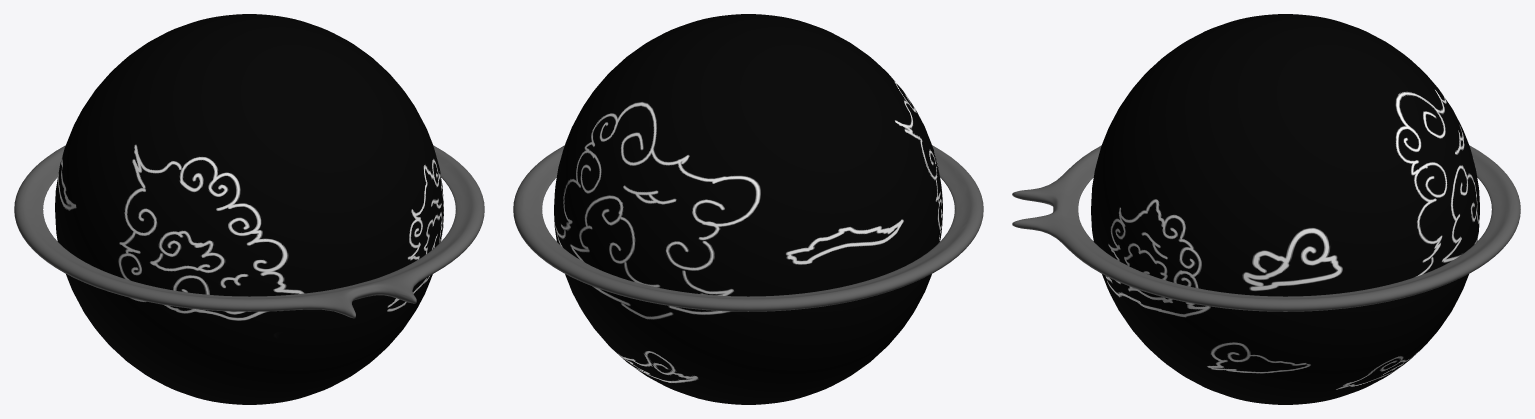
The model's file is star-compass-compressed.glb.
The picture shows the model from 3 angles, left to right: view 1: azimuth 30°, elevation 25°; view 2: azimuth 150°, elevation 25°; view 3: azimuth 270°, elevation 25°; orthographic projection.
Visible parts, largest first — view 1: Object_6, Object_7; view 2: Object_6, Object_7; view 3: Object_6, Object_7.
Boxes of the visible parts, bbox=[...] form: Object_6: bbox=[55, 14, 443, 404]; Object_7: bbox=[14, 145, 484, 318]; Object_6: bbox=[554, 14, 942, 404]; Object_7: bbox=[513, 145, 983, 311]; Object_6: bbox=[1091, 14, 1479, 404]; Object_7: bbox=[1012, 145, 1520, 311].
Bounding box in the file's own units: 2.39 × 2 × 2.58.
Materials: 5 (1 with a texture image).
